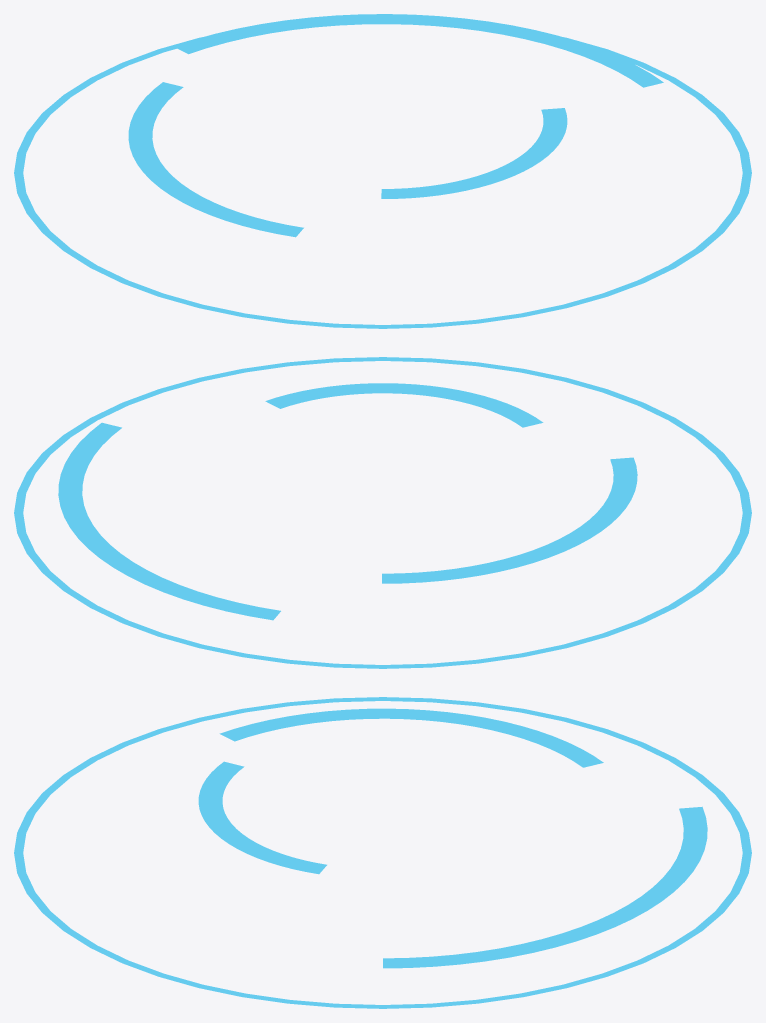
Rendered from soldier.glb.
The picture shows the model from 3 angles, top to bottom: view 1: azimuth 30°, elevation 25°; view 2: azimuth 150°, elevation 25°; view 3: azimuth 270°, elevation 25°; orthographic projection.
Visible parts, largest first — view 1: soldier_ultimate; view 2: soldier_ultimate; view 3: soldier_ultimate.
Part boxes in pixels (x1=…): soldier_ultimate: x1=14, y1=14, x2=751, y2=328; soldier_ultimate: x1=14, y1=357, x2=751, y2=668; soldier_ultimate: x1=14, y1=697, x2=751, y2=1008.
Bounding box in the file's own units: 2 × 0.155 × 2.
